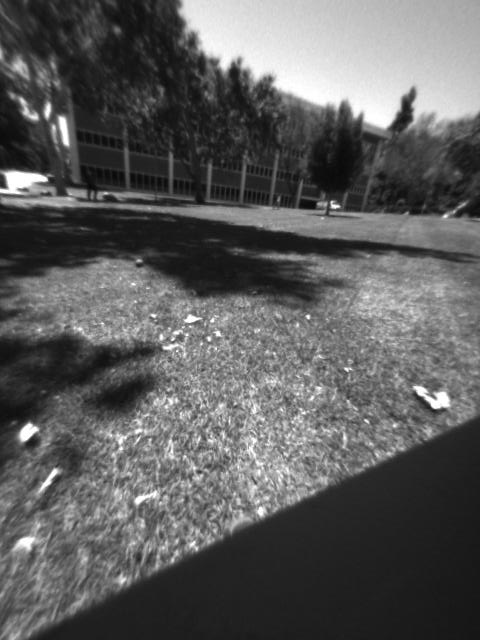dogtoy: (125, 250, 154, 272)
